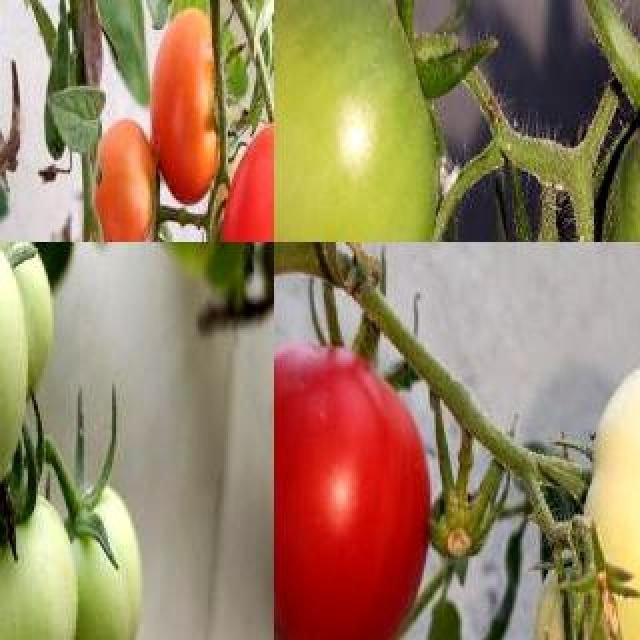Fresh_Tomato: (274, 336, 430, 640), (152, 10, 220, 210), (88, 116, 158, 242), (222, 122, 274, 242)
